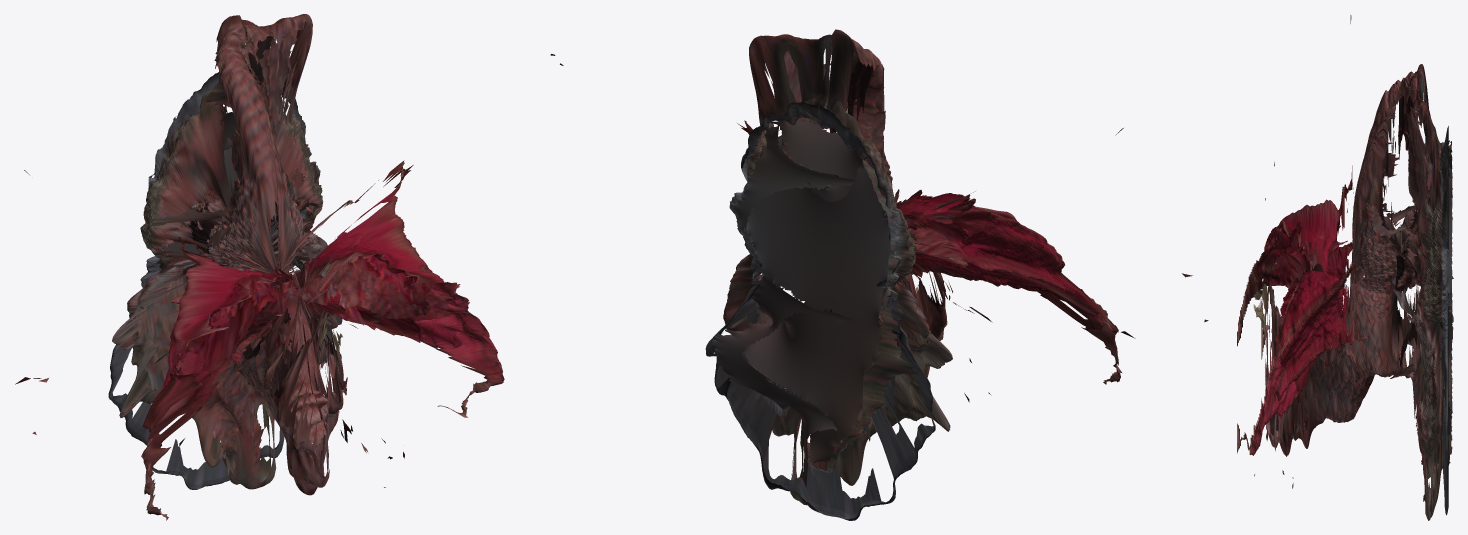
The model's file is mesh_inpaint.glb.
3 renders of one model, left to right at view 1: azimuth 30°, elevation 25°; view 2: azimuth 150°, elevation 25°; view 3: azimuth 270°, elevation 25°, orthographic. The views are drawn at different scales.
Parts seen in each view (by area): view 1: ipn, fill; view 2: fill, ipn; view 3: ipn, fill.
Boxes of the visible parts, box(x1,y1,x2,y2) form: ipn: box(15, 14, 563, 520); fill: box(128, 25, 465, 477); fill: box(711, 49, 974, 472); ipn: box(705, 29, 1208, 520); ipn: box(1237, 15, 1448, 520); fill: box(1262, 86, 1453, 501).
Bounding box in the file's own units: 1.84 × 1.47 × 0.6564.
2 materials, 1 textured.
